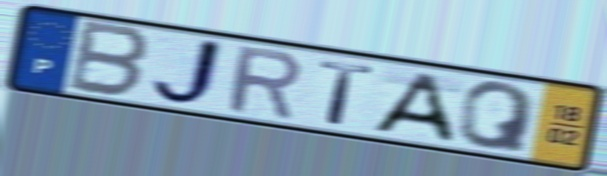A: (366, 69, 457, 145)
B: (63, 17, 155, 101)
J: (146, 35, 228, 109)
Q: (455, 80, 539, 156)
R: (225, 43, 304, 123)
T: (317, 57, 378, 128)
